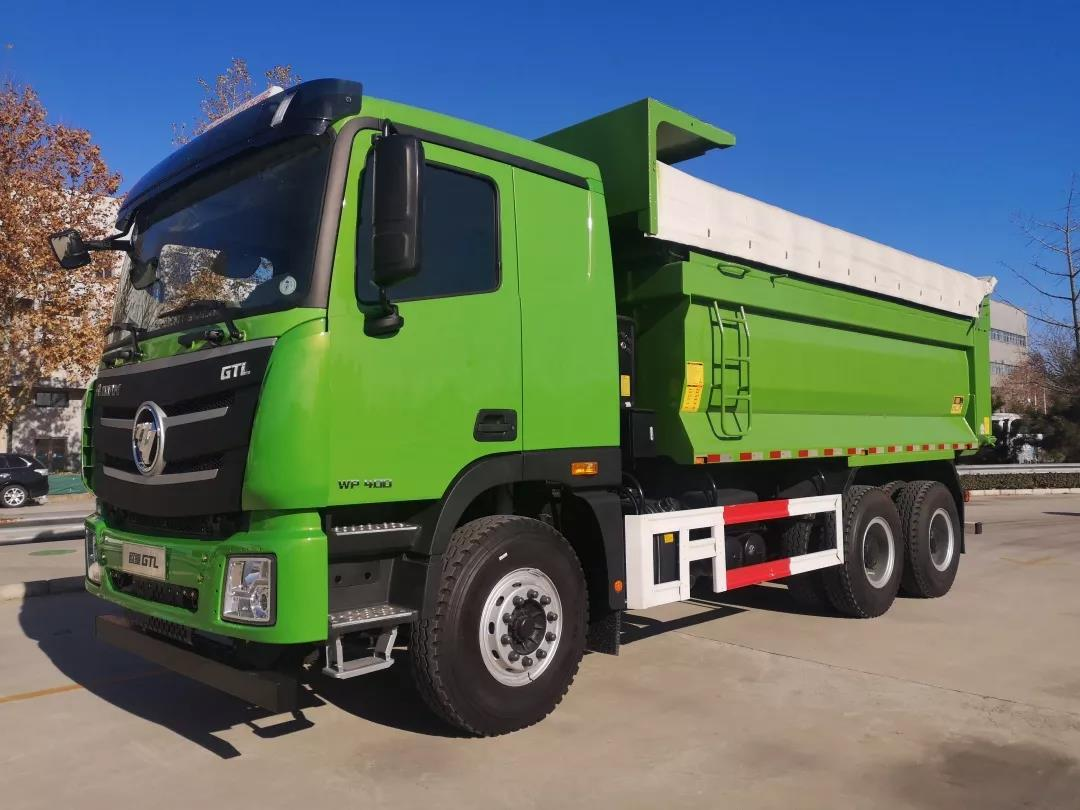truck: (71, 58, 1003, 741)
